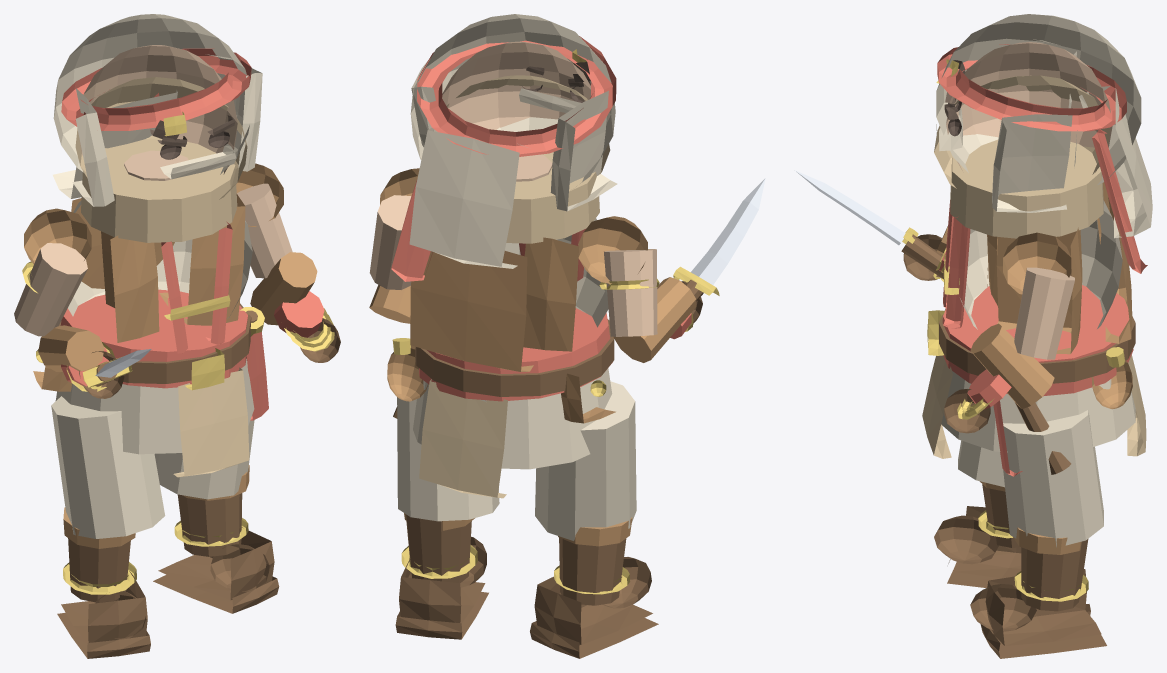
Rendered from bandido_desierto.glb.
3 views of the same model, side by side, from view 1: azimuth 30°, elevation 25°; view 2: azimuth 150°, elevation 25°; view 3: azimuth 270°, elevation 25° (orthographic). The views are drawn at different scales.
Visible parts, largest first — view 1: BandidoDesierto; view 2: BandidoDesierto; view 3: BandidoDesierto.
Boxes of the visible parts, x1,y1,x2,y2 form: BandidoDesierto: (14,14,340,658); BandidoDesierto: (369,14,765,658); BandidoDesierto: (794,14,1152,658).
Bounding box in the file's own units: 0.6401 × 1.25 × 0.6925.
